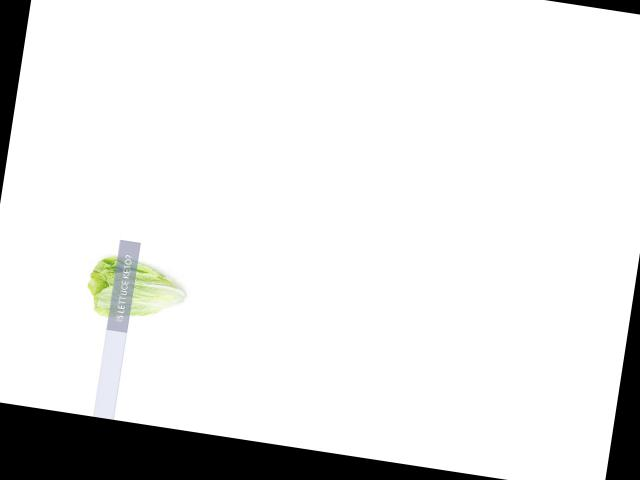lettuce: (83, 247, 199, 332)
